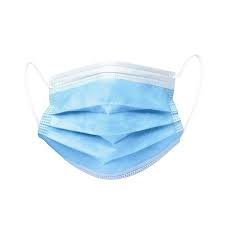FaceMask: (38, 62, 184, 180)
